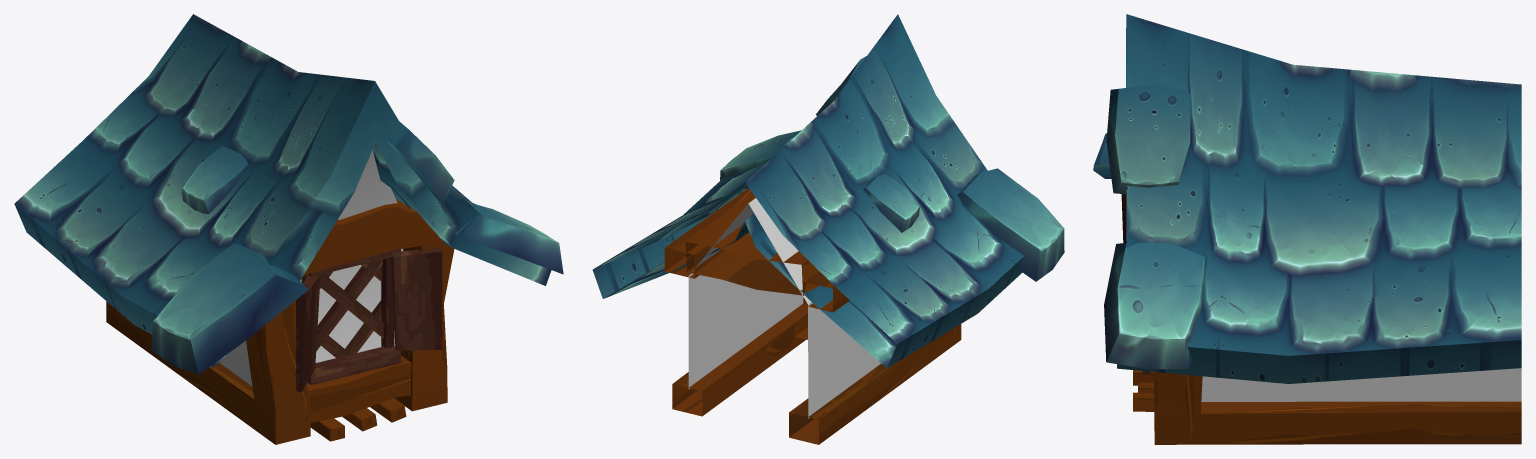
Rendered from SM_BLD_window_v04_01.fbx.
3 renders of one model, left to right at view 1: azimuth 30°, elevation 25°; view 2: azimuth 150°, elevation 25°; view 3: azimuth 270°, elevation 25°, orthographic. The views are drawn at different scales.
Parts seen in each view (by area): view 1: SM_BLD_window_v04_01; view 2: SM_BLD_window_v04_01; view 3: SM_BLD_window_v04_01.
Boxes of the visible parts, x1=… form: SM_BLD_window_v04_01: x1=14, y1=14, x2=563, y2=444; SM_BLD_window_v04_01: x1=592, y1=14, x2=1064, y2=444; SM_BLD_window_v04_01: x1=1093, y1=14, x2=1521, y2=444.
Size of the model in its own units: 428 by 382 by 383.
